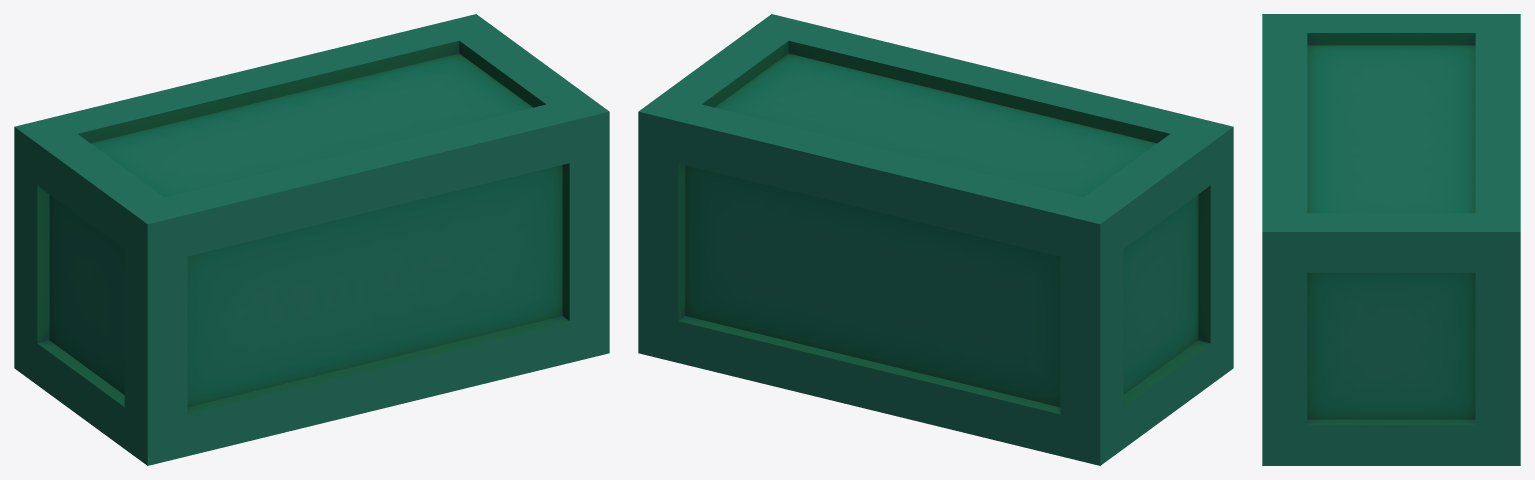
3 renders of one model, left to right at view 1: azimuth 30°, elevation 25°; view 2: azimuth 150°, elevation 25°; view 3: azimuth 270°, elevation 25°, orthographic. The views are drawn at different scales.
Parts seen in each view (by area): view 1: box01_geo; view 2: box01_geo; view 3: box01_geo.
Part boxes in pixels (box(x1,y1,x2,y2)): box01_geo: box(14, 14, 609, 465); box01_geo: box(638, 14, 1233, 465); box01_geo: box(1262, 14, 1520, 465).
Bounding box in the file's own units: 200 × 100 × 100.
1 material, 1 textured.
